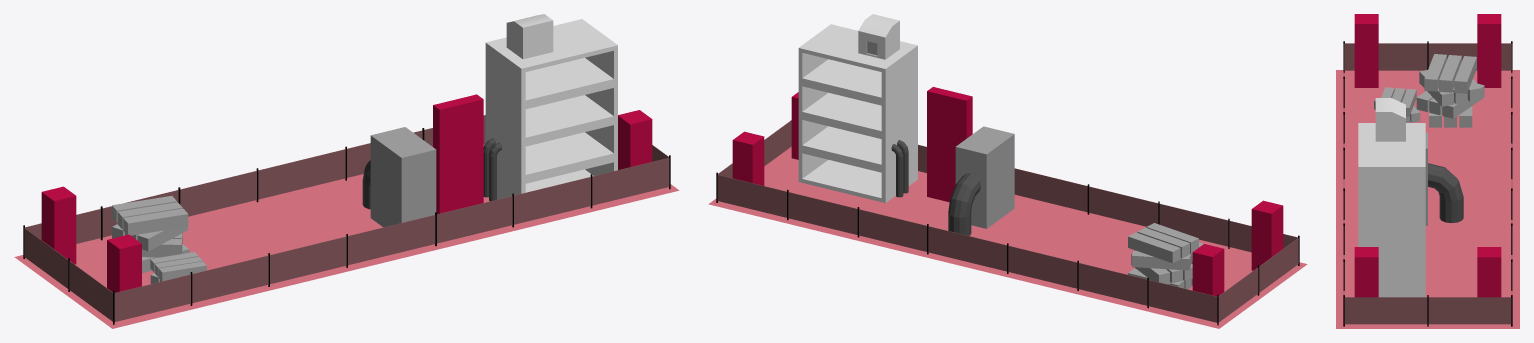
The model's file is 310_pink.fbx.
3 renders of one model, left to right at view 1: azimuth 30°, elevation 25°; view 2: azimuth 150°, elevation 25°; view 3: azimuth 270°, elevation 25°, orthographic. The views are drawn at different scales.
Visible parts, largest first — view 1: pCube229, ree_ree2, pCube228 (×4), pCube227 (×3), pCube233, pCube234, pCube260, pCube265, pCube259, pCube267, pCube264, pCube241 (+12 smaller); view 2: pCube229, ree_ree2, pCube233, pCube234, pCube227 (×2), pCube228 (×2), pCube260, pCube259, pCube262, pCube263, pCube257, pCube258 (+14 smaller); view 3: ree_ree2, pCube229, pCube225, pCube226, pCube264, pCube265, pCube217, pCylinder44, pCube241, pCube266, pCube267, pCube222 (+14 smaller).
Part boxes in pixels (box(x1,y1,x2,y2)): pCube229: box(485, 19, 617, 199); ree_ree2: box(14, 144, 679, 328); pCube228 (×4): box(114, 158, 669, 321); pCube227 (×3): box(192, 177, 590, 303); pCube233: box(370, 127, 436, 227); pCube234: box(433, 94, 483, 214); pCube260: box(258, 149, 345, 199); pCube265: box(41, 186, 76, 264); pCube259: box(180, 171, 256, 216); pCube267: box(618, 110, 652, 169); pCube264: box(107, 234, 141, 292); pCube241: box(506, 14, 553, 59); pCube229: box(798, 24, 917, 202); ree_ree2: box(708, 147, 1307, 328); pCube233: box(955, 126, 1014, 228); pCube234: box(927, 87, 972, 202); pCube227 (×2): box(1014, 168, 1228, 246); pCube228 (×2): box(1089, 186, 1297, 252); pCube260: box(928, 226, 1006, 271); pCube259: box(1008, 245, 1077, 288); pCube262: box(788, 192, 857, 234); pCube263: box(717, 175, 786, 217); pCube257: box(1148, 280, 1217, 322); pCube258: box(1078, 263, 1147, 305); ree_ree2: box(1336, 70, 1519, 328); pCube229: box(1358, 123, 1425, 297); pCube225: box(1428, 297, 1511, 324); pCube226: box(1344, 297, 1427, 324); pCube264: box(1354, 14, 1378, 87); pCube265: box(1477, 14, 1501, 87); pCube217: box(1344, 43, 1427, 70); pCylinder44: box(1428, 163, 1463, 223); pCube241: box(1375, 98, 1405, 141); pCube266: box(1477, 247, 1501, 297); pCube267: box(1354, 247, 1378, 297); pCube222: box(1428, 43, 1511, 70).
Size of the model in its own units: 10 by 3.04 by 3.
